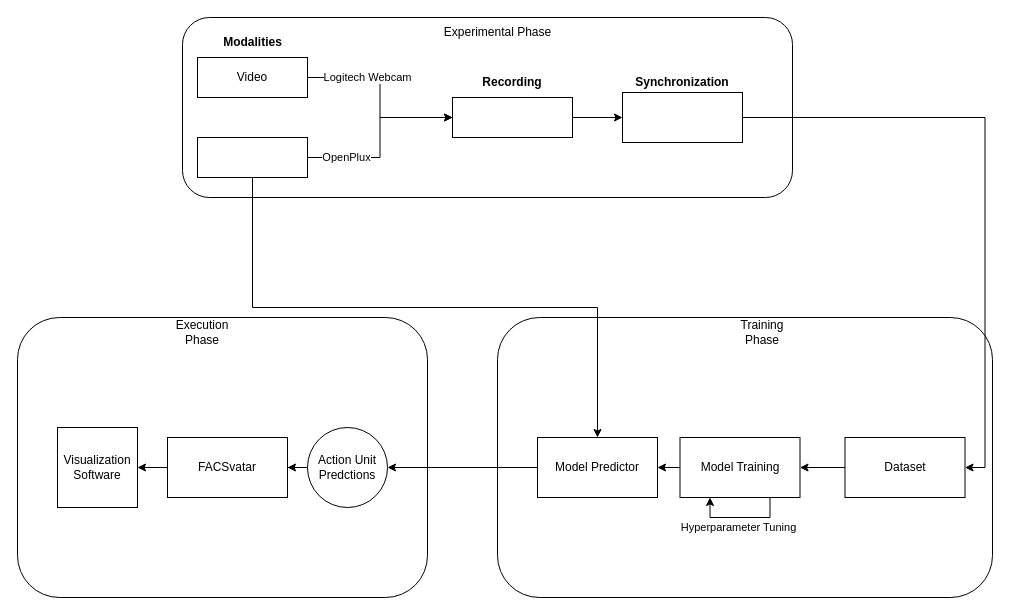
Some shapes in this 1011 by 615 pixel diagram are drawn without their labels. The box of each missing label's shape, as (x1, y1, x2, y2) in pixels:
EMG: (196, 136, 308, 178)
LSL tools: (622, 92, 742, 142)
Recording sessions: (452, 96, 572, 138)
